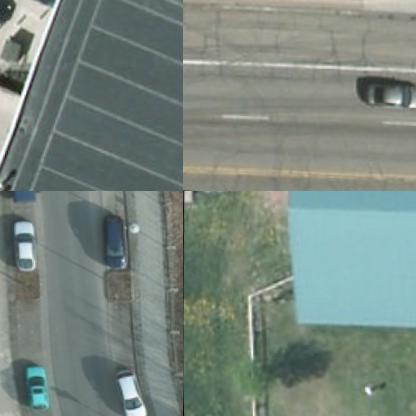car: (112, 362, 149, 416), (99, 212, 130, 264), (360, 81, 415, 109), (11, 216, 37, 270), (24, 360, 52, 408), (10, 0, 67, 9)
